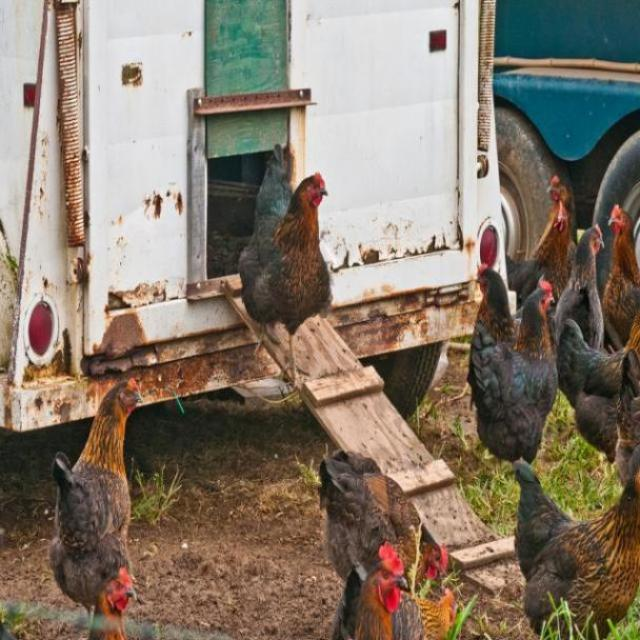Chicken: (44, 373, 150, 633), (237, 136, 332, 392), (512, 461, 640, 640), (327, 446, 449, 596), (471, 278, 557, 459), (505, 177, 573, 314), (571, 337, 640, 467), (327, 541, 416, 639), (558, 309, 640, 410), (551, 217, 608, 359), (602, 196, 640, 342), (470, 257, 523, 348), (82, 564, 143, 639)
